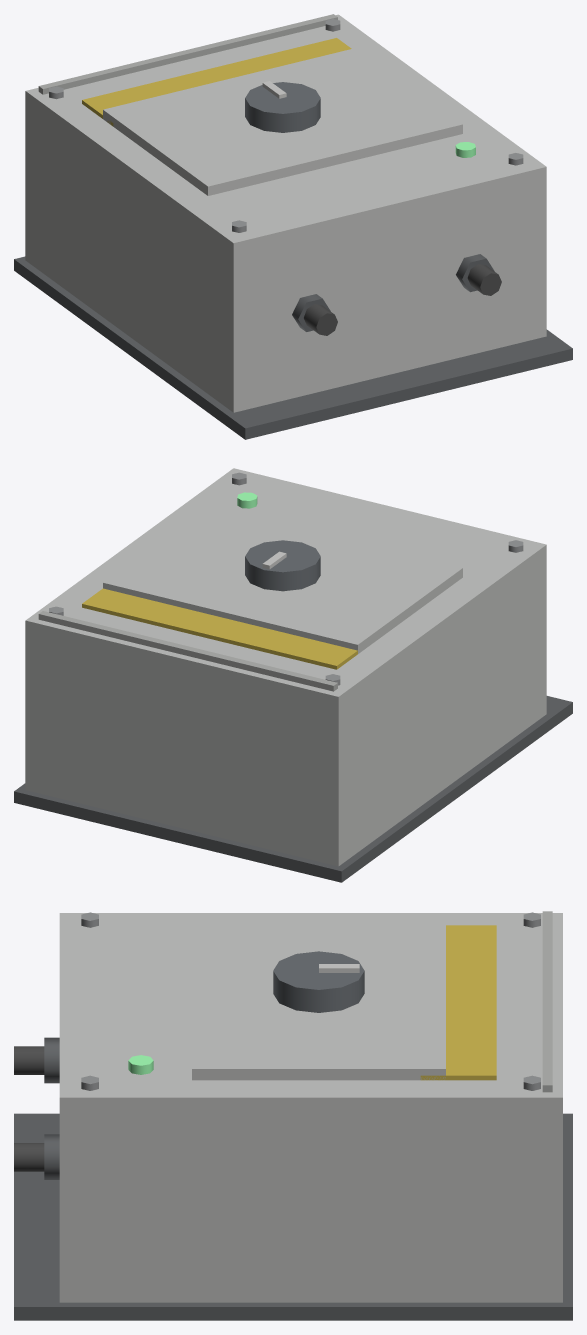
The model's file is lgTimer_steel.glb.
3 renders of one model, top to bottom at view 1: azimuth 30°, elevation 25°; view 2: azimuth 150°, elevation 25°; view 3: azimuth 270°, elevation 25°, orthographic. The views are drawn at different scales.
Visible parts, largest first — view 1: lgTimer_steel; view 2: lgTimer_steel; view 3: lgTimer_steel.
Boxes of the visible parts, left/top/right/bottom form: lgTimer_steel: left=14, top=14, right=572, bottom=439; lgTimer_steel: left=14, top=468, right=572, bottom=882; lgTimer_steel: left=14, top=911, right=572, bottom=1320.
Size of the model in its own units: 0.18 by 0.112 by 0.22.
